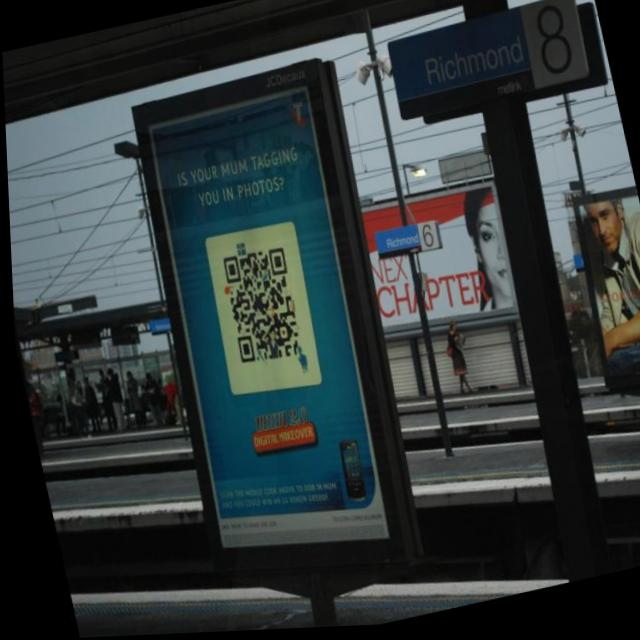qrcode: (216, 247, 304, 370)
